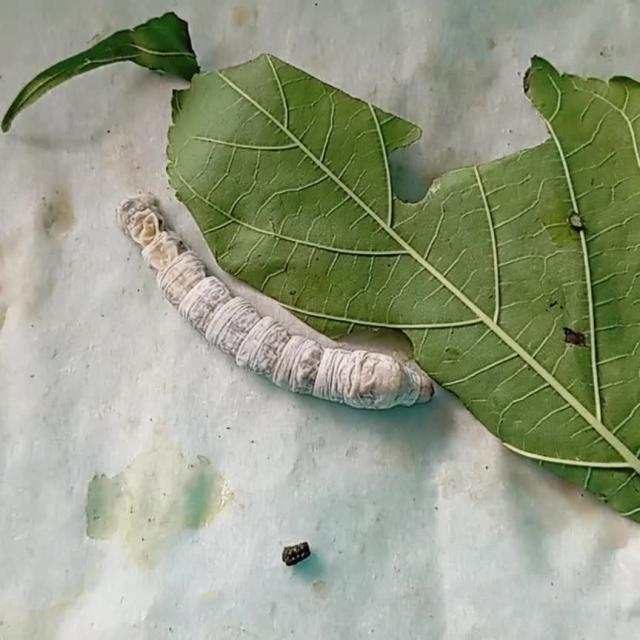Grasserie: (106, 181, 446, 426)
